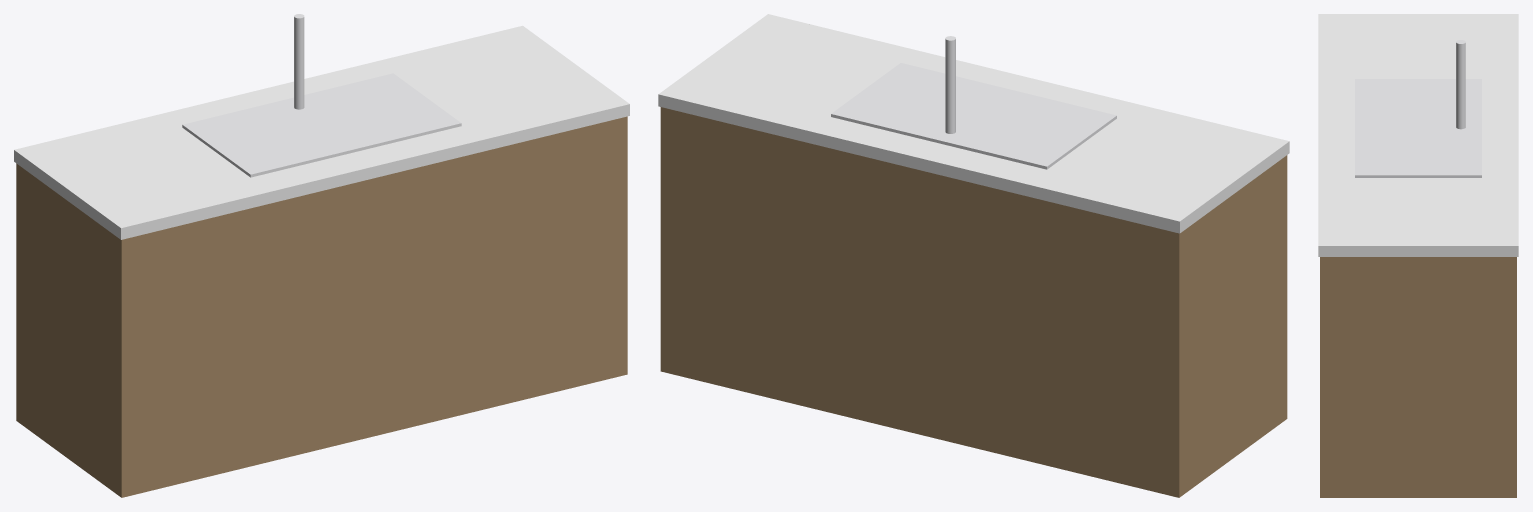
File: kitchen.glb
The picture shows the model from 3 angles, left to right: view 1: azimuth 30°, elevation 25°; view 2: azimuth 150°, elevation 25°; view 3: azimuth 270°, elevation 25°; orthographic projection. The views are drawn at different scales.
Visible parts, largest first — view 1: CabinetBase, KitchenCounter, KitchenSink, GooseFaucet; view 2: CabinetBase, KitchenCounter, KitchenSink, GooseFaucet; view 3: CabinetBase, KitchenCounter, KitchenSink, GooseFaucet.
Boxes of the visible parts, x1=… form: CabinetBase: x1=16, y1=116, x2=627, y2=497; KitchenCounter: x1=14, y1=25, x2=629, y2=239; KitchenSink: x1=182, y1=73, x2=461, y2=177; GooseFaucet: x1=294, y1=14, x2=304, y2=109; CabinetBase: x1=660, y1=107, x2=1287, y2=497; KitchenCounter: x1=658, y1=14, x2=1289, y2=233; KitchenSink: x1=831, y1=63, x2=1116, y2=169; GooseFaucet: x1=945, y1=36, x2=955, y2=133; CabinetBase: x1=1320, y1=257, x2=1516, y2=497; KitchenCounter: x1=1318, y1=14, x2=1518, y2=256; KitchenSink: x1=1355, y1=79, x2=1481, y2=177; GooseFaucet: x1=1456, y1=40, x2=1465, y2=129.
Size of the model in its own units: 1.81 by 1.24 by 0.66.
